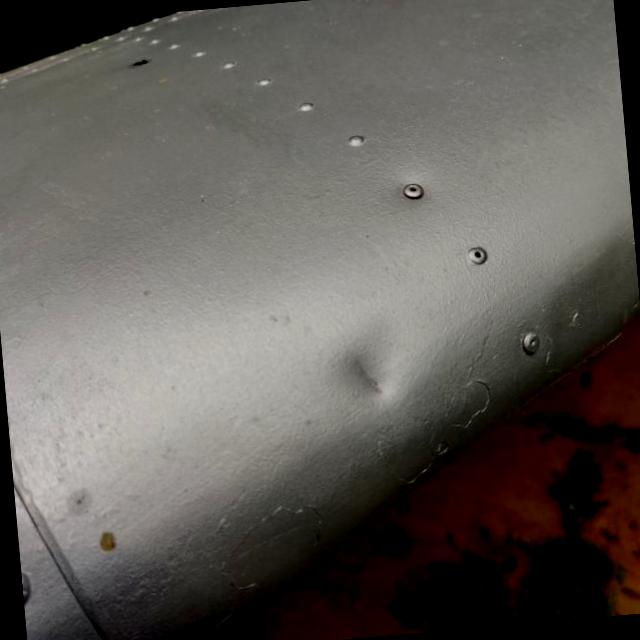dent: (302, 317, 424, 433)
